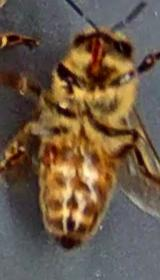varroa_mite: (36, 132, 64, 182)
